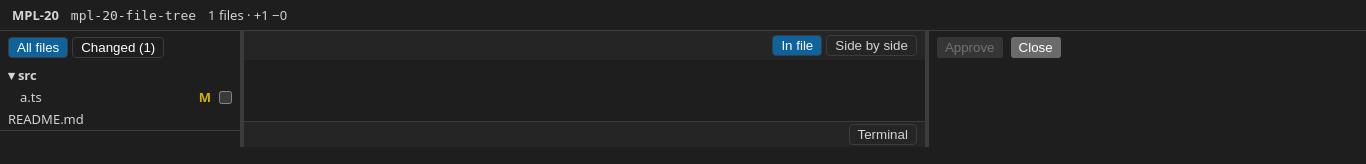
Test: CardTab › clears the selection when the last file tab closes
The image size is (1366, 164).
Click the text "README.md" at (46, 119), box [8,110,84,128]
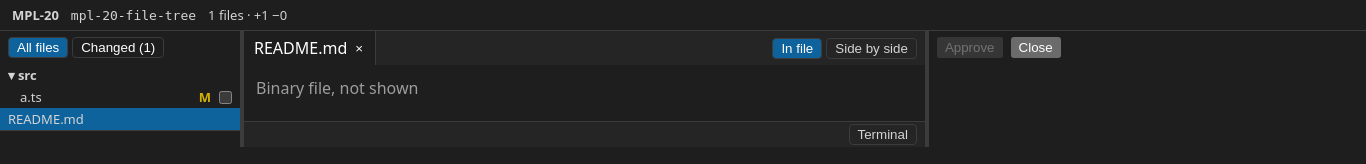
Click the button named "Close README.md" at (359, 48), box [353,40,365,56]
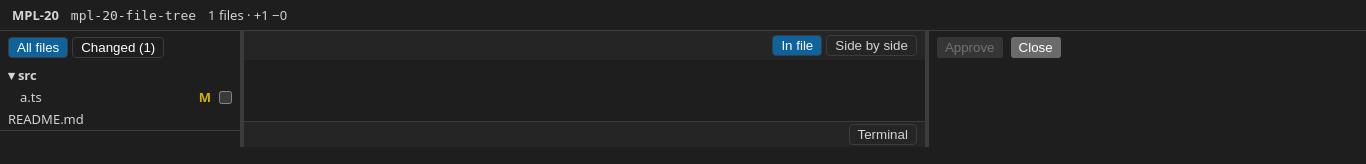
expect the tab is gone: met
